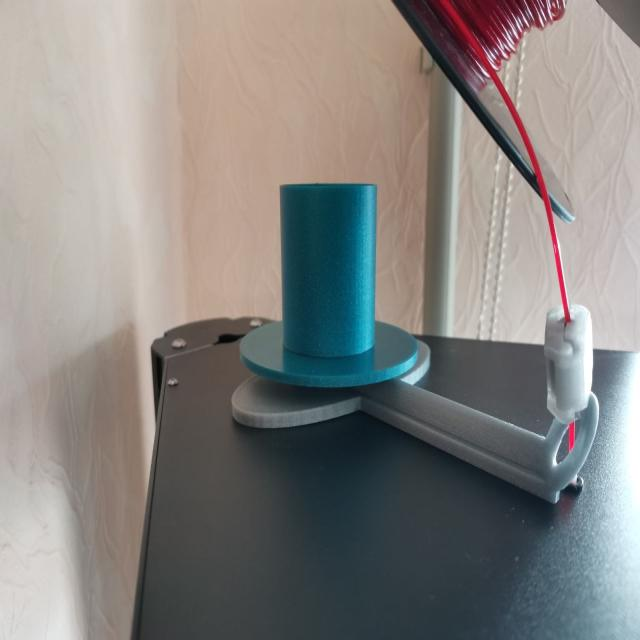Without deffect: (229, 166, 424, 396)
